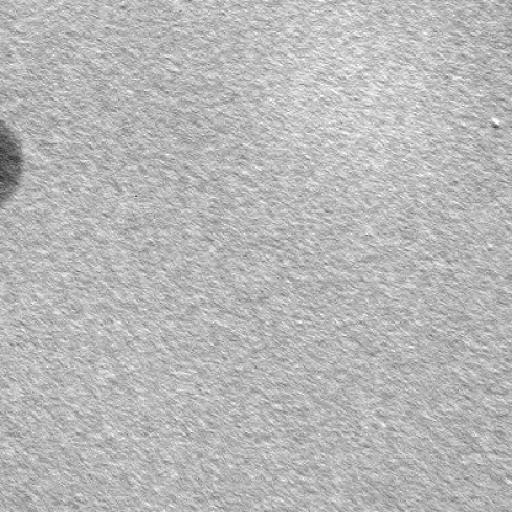Nanoparticles: (0, 117, 23, 210)
